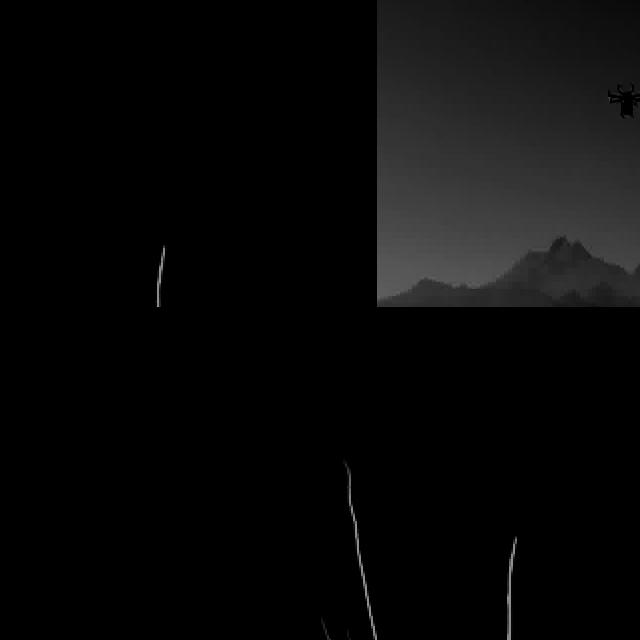0: (567, 528, 595, 560), (218, 248, 246, 278)
drone: (605, 75, 640, 128)
